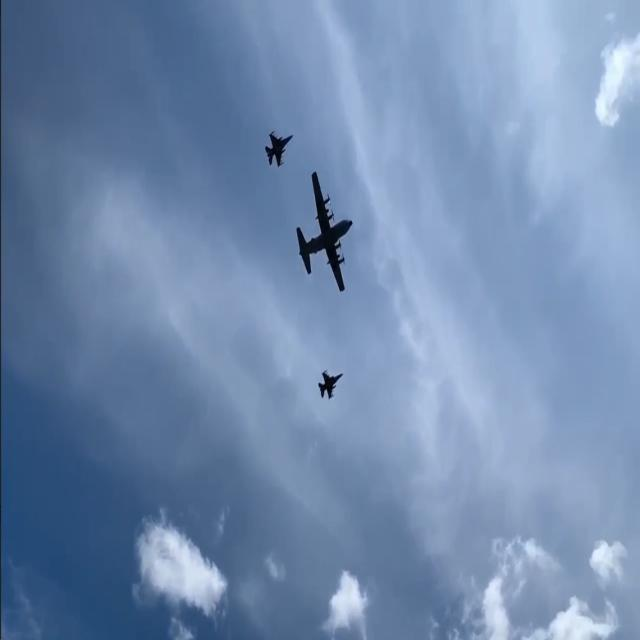MIL_Plane: (296, 139, 353, 259), (265, 130, 294, 168), (317, 370, 343, 400)
